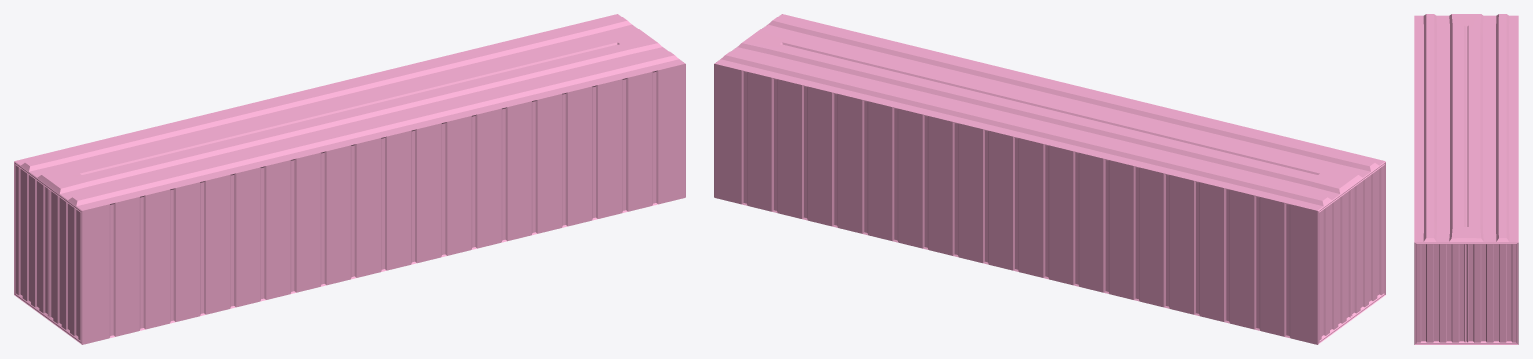
Rendered from PlatformContainer_Asset_v01.fbx.
3 views of the same model, side by side, from view 1: azimuth 30°, elevation 25°; view 2: azimuth 150°, elevation 25°; view 3: azimuth 270°, elevation 25° (orthographic). The views are drawn at different scales.
Parts seen in each view (by area): view 1: Container; view 2: Container; view 3: Container.
Part boxes in pixels (box(x1,y1,x2,y2)): Container: box(14, 14, 685, 344); Container: box(714, 14, 1385, 344); Container: box(1414, 14, 1518, 344).
Bounding box in the file's own units: 1203 × 262 × 234.
1 material, 1 textured.
